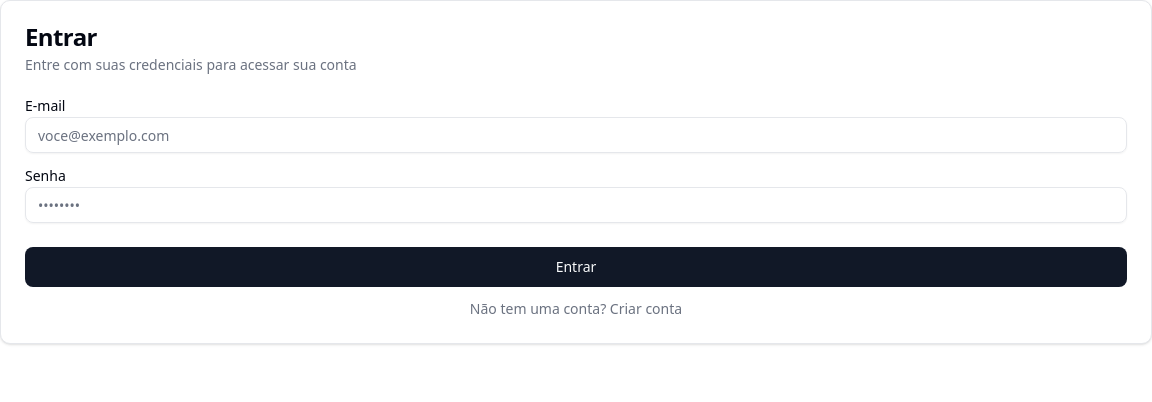
Test case: LoginForm › shows validation error when submitting empty form
Click the button "Entrar": (576, 267) [25,247,1127,287]
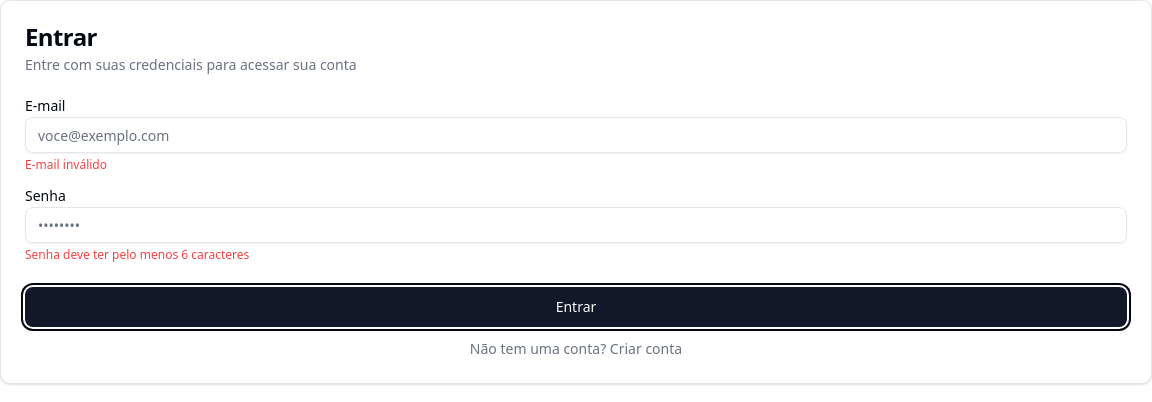
Now the text "E-mail inválido" is shown, box [25,156,107,173]
